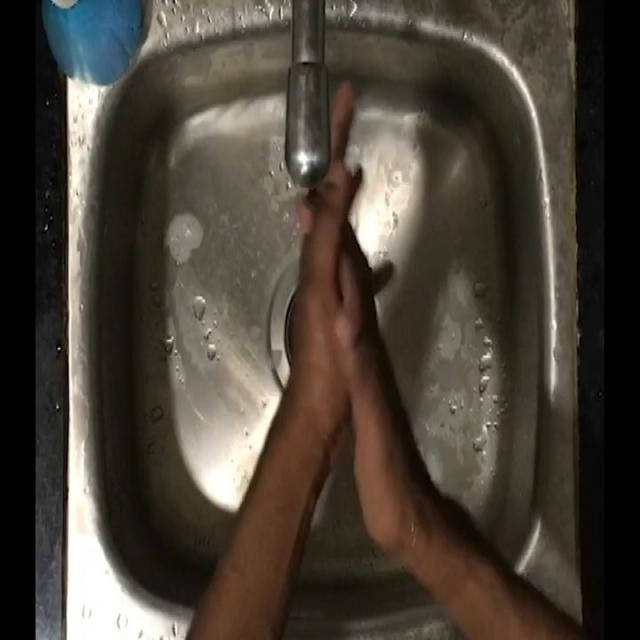step_3: (272, 79, 402, 428)
